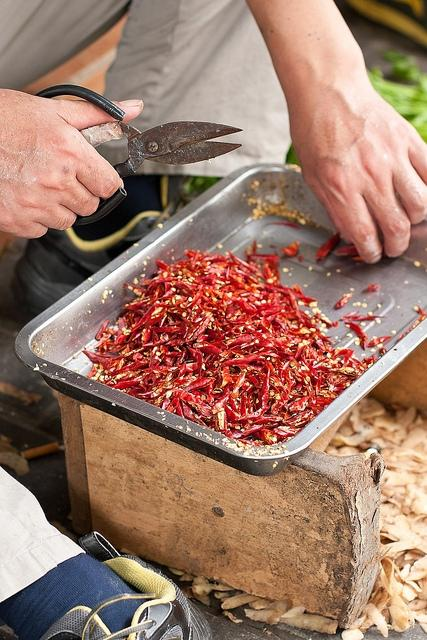hot pepper: (106, 357, 150, 377), (226, 249, 258, 275), (172, 388, 211, 409), (316, 232, 340, 262), (131, 306, 158, 332), (218, 353, 263, 368), (142, 362, 198, 374), (210, 382, 231, 414), (186, 316, 210, 342), (186, 316, 208, 341), (120, 294, 154, 310), (240, 422, 278, 436), (344, 322, 369, 342), (148, 330, 161, 368), (160, 363, 186, 382), (228, 333, 260, 348), (184, 377, 216, 392), (238, 406, 270, 420), (276, 351, 304, 367), (144, 308, 166, 328), (152, 390, 173, 410), (240, 392, 251, 429), (115, 344, 130, 371), (288, 290, 301, 321), (250, 414, 283, 426), (231, 372, 246, 398), (301, 314, 320, 334), (94, 329, 112, 349), (262, 221, 302, 230), (193, 342, 223, 354), (196, 347, 207, 379), (295, 367, 320, 381), (110, 380, 144, 390), (261, 314, 276, 336), (238, 298, 256, 316), (215, 407, 227, 434), (263, 262, 277, 285), (280, 240, 300, 256), (289, 396, 309, 412), (206, 382, 218, 408), (202, 252, 233, 262), (179, 399, 193, 421), (184, 291, 202, 308), (262, 369, 270, 407), (210, 332, 235, 344), (124, 389, 154, 399), (174, 348, 190, 366), (92, 356, 110, 372), (334, 292, 352, 308), (96, 320, 110, 340), (123, 346, 146, 358), (264, 305, 285, 318), (312, 332, 326, 351), (219, 366, 230, 388), (153, 334, 173, 346), (367, 336, 391, 346), (336, 246, 360, 256), (307, 397, 336, 405), (349, 315, 387, 321), (229, 396, 241, 415), (199, 304, 218, 316), (206, 262, 228, 272), (270, 428, 294, 437), (250, 255, 280, 262), (166, 398, 180, 413), (241, 338, 260, 349), (275, 318, 288, 334), (162, 286, 180, 297), (186, 346, 198, 362), (202, 295, 218, 307), (340, 350, 354, 363), (190, 250, 200, 268), (274, 284, 296, 292), (229, 280, 246, 290), (156, 260, 170, 272), (304, 376, 313, 394), (148, 327, 180, 332), (255, 352, 281, 358), (176, 305, 189, 317), (164, 356, 178, 367), (117, 318, 125, 337), (294, 346, 306, 358), (316, 372, 322, 396), (206, 321, 218, 333), (277, 338, 300, 344), (270, 376, 283, 386), (186, 306, 194, 322), (167, 313, 176, 327), (220, 285, 235, 293), (155, 277, 178, 282), (166, 351, 185, 357), (205, 332, 221, 339), (366, 284, 380, 292), (134, 328, 144, 339), (283, 316, 292, 328), (414, 304, 424, 314), (242, 274, 252, 284), (160, 344, 168, 356), (183, 355, 195, 363), (274, 290, 280, 305), (283, 369, 293, 378), (237, 264, 248, 272), (250, 393, 256, 407), (251, 286, 261, 294), (224, 319, 239, 324), (182, 283, 194, 289), (187, 264, 196, 272), (232, 310, 241, 318), (248, 360, 262, 365), (202, 284, 213, 290), (231, 345, 242, 351), (211, 354, 219, 362), (352, 256, 364, 261), (180, 273, 186, 282), (272, 362, 278, 371), (316, 351, 322, 360), (184, 372, 194, 377), (176, 268, 182, 276), (252, 346, 259, 352), (338, 381, 352, 384), (288, 332, 298, 336), (198, 274, 207, 278), (266, 337, 274, 341), (302, 334, 310, 337), (196, 265, 200, 270), (234, 328, 239, 332), (235, 426, 240, 430), (259, 347, 264, 351), (330, 376, 337, 378)
